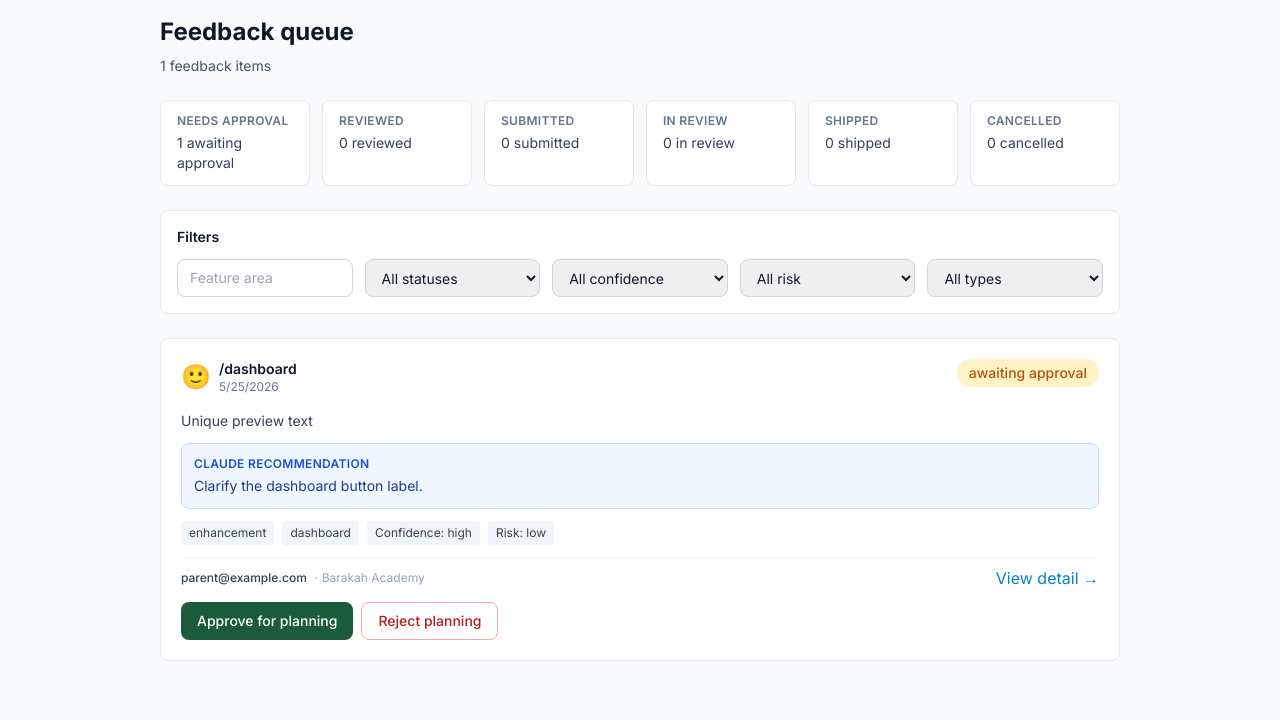
Test case: AdminFeedbackPage › approval flow › shows message preview as InlineConfirm detail for approve
Click the button with test id "approve-button-fb_1" at (267,621), box 181,602 -> 354,640
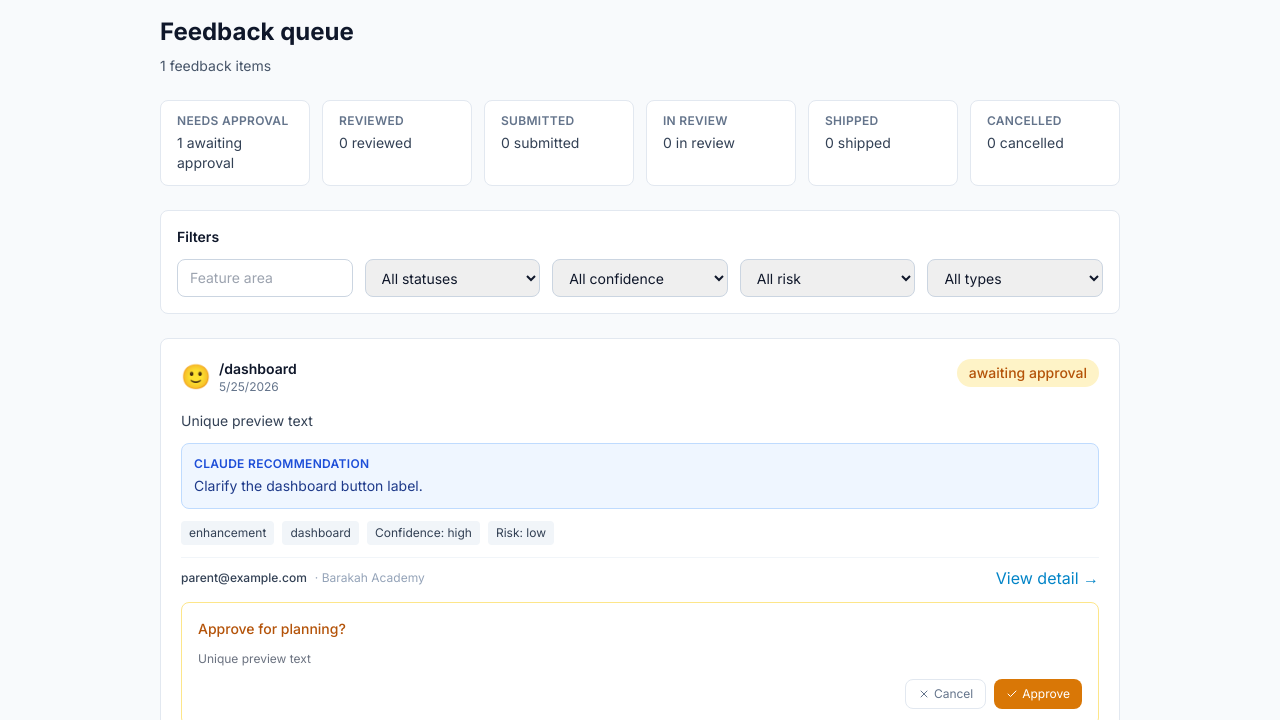
Check: the text "Unique preview text" below "Approve for planning?" is shown, box 198,651 -> 311,666
